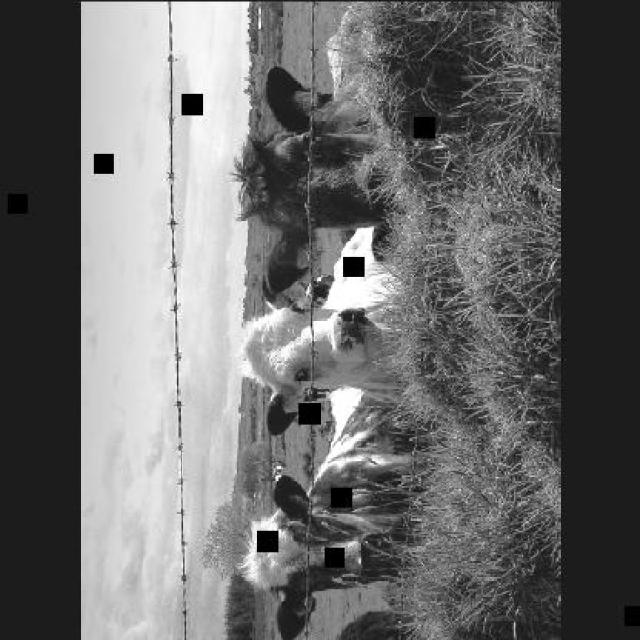unauthorized: (240, 303, 391, 434)
